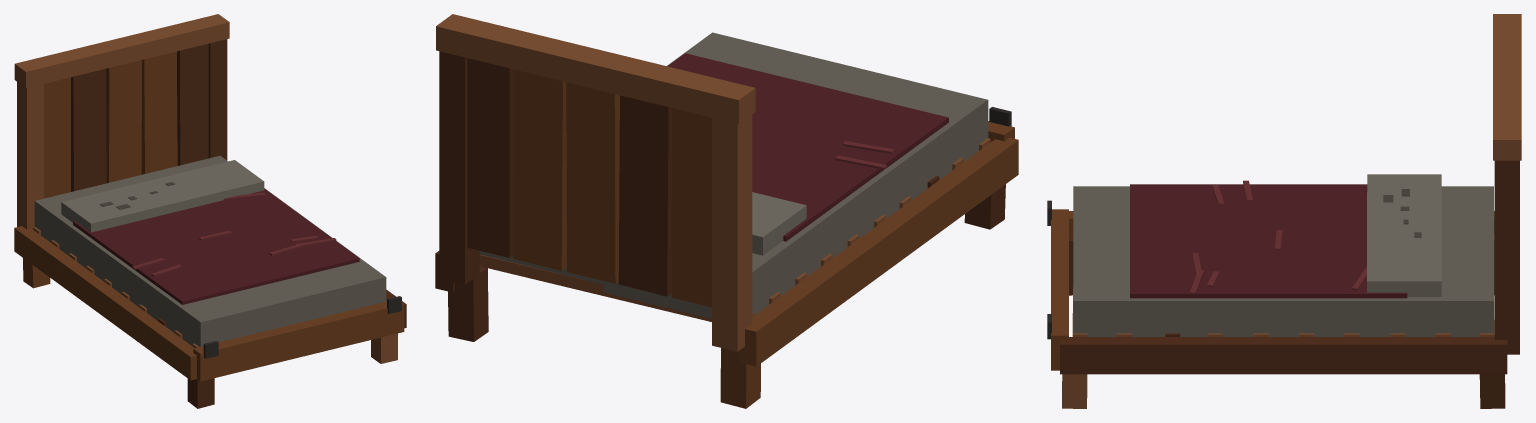
The model's file is bed.glb.
3 views of the same model, side by side, from view 1: azimuth 30°, elevation 25°; view 2: azimuth 150°, elevation 25°; view 3: azimuth 270°, elevation 25° (orthographic). The views are drawn at different scales.
Parts seen in each view (by area): view 1: Old Horror Blanket, Dirty Mattress, Wooden Foot Board, Dirty Pillow, Left Wooden Bed Frame, Headboard Top, Headboard Panel 4, Headboard Panel 3, Headboard Panel 2, Headboard Panel 5, Headboard Wooden Post, Headboard Panel 1 (+4 smaller); view 2: Dirty Mattress, Old Horror Blanket, Left Wooden Bed Frame, Headboard Top, Headboard Panel 4, Headboard Panel 3, Headboard Panel 2, Headboard Wooden Post, Headboard Panel 5, Headboard Panel 1, Headboard Wooden Post.001, Bed Leg 4 (+4 smaller); view 3: Dirty Mattress, Old Horror Blanket, Right Wooden Bed Frame, Dirty Pillow, Headboard Wooden Post.001, Headboard Top, Wooden Foot Board, Bed Leg 4, Bed Leg 2.
Part boxes in pixels (box(x1,y1,x2,y2)): Old Horror Blanket: box(73, 189, 359, 304); Dirty Mattress: box(34, 155, 386, 346); Wooden Foot Board: box(193, 301, 404, 381); Dirty Pillow: box(61, 160, 264, 232); Left Wooden Bed Frame: box(14, 226, 196, 380); Headboard Top: box(14, 14, 229, 87); Headboard Panel 4: box(141, 51, 177, 174); Headboard Panel 3: box(106, 60, 141, 183); Headboard Panel 2: box(71, 68, 106, 191); Headboard Panel 5: box(177, 43, 208, 165); Headboard Wooden Post: box(17, 82, 43, 229); Headboard Panel 1: box(44, 77, 70, 198); Dirty Mattress: box(479, 32, 988, 318); Old Horror Blanket: box(668, 53, 948, 241); Left Wooden Bed Frame: box(738, 137, 1018, 366); Headboard Top: box(436, 14, 755, 124); Headboard Panel 4: box(513, 69, 566, 270); Headboard Panel 3: box(566, 82, 619, 283); Headboard Panel 2: box(618, 95, 671, 296); Headboard Wooden Post: box(712, 115, 752, 351); Headboard Panel 5: box(467, 58, 514, 257); Headboard Panel 1: box(672, 108, 711, 307); Headboard Wooden Post.001: box(439, 51, 479, 285); Bed Leg 4: box(448, 266, 488, 341); Dirty Mattress: box(1073, 186, 1493, 336); Old Horror Blanket: box(1130, 184, 1407, 298); Right Wooden Bed Frame: box(1060, 337, 1507, 374); Dirty Pillow: box(1367, 174, 1441, 296); Headboard Wooden Post.001: box(1494, 160, 1519, 354); Headboard Top: box(1493, 14, 1521, 160); Wooden Foot Board: box(1051, 209, 1068, 370); Bed Leg 4: box(1479, 374, 1505, 408); Bed Leg 2: box(1062, 374, 1087, 408).
Bounding box in the file's own units: 5.3 × 5 × 7.95.
